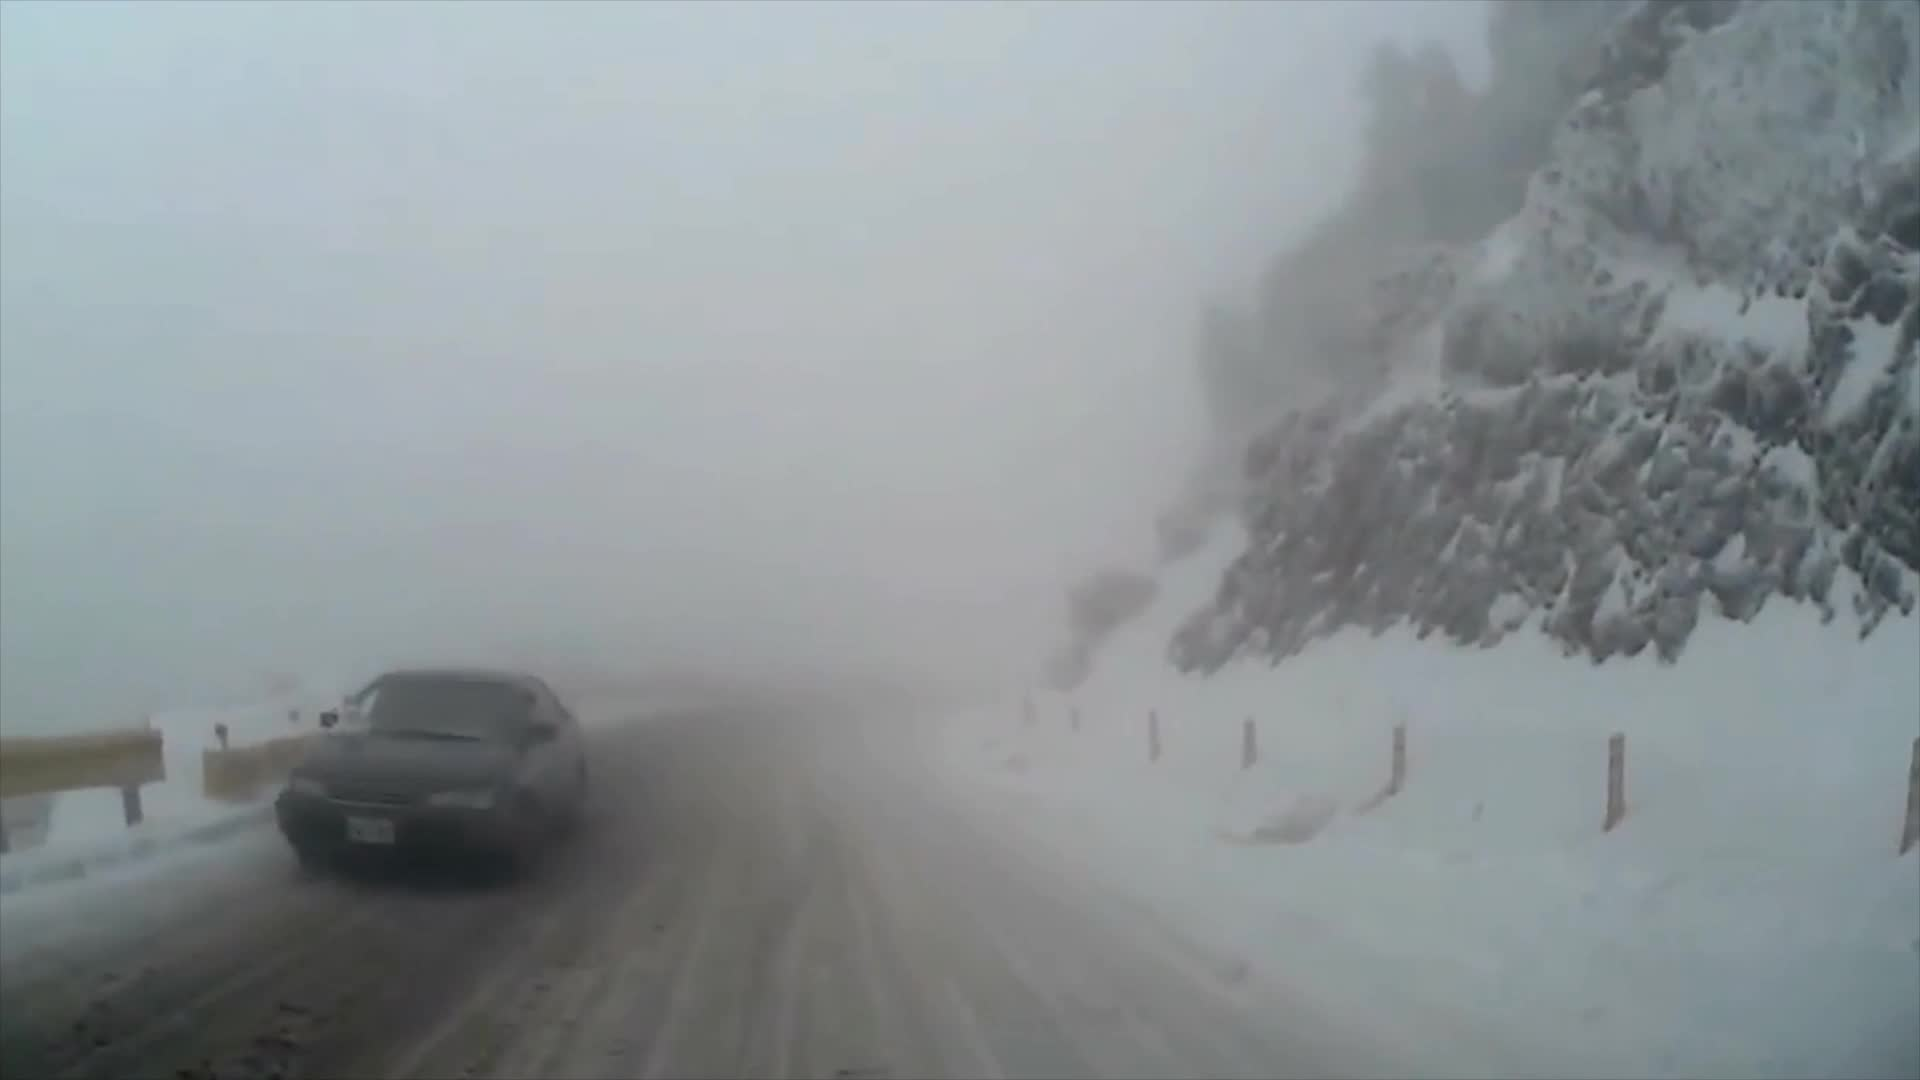vehicle: (276, 666, 592, 884)
